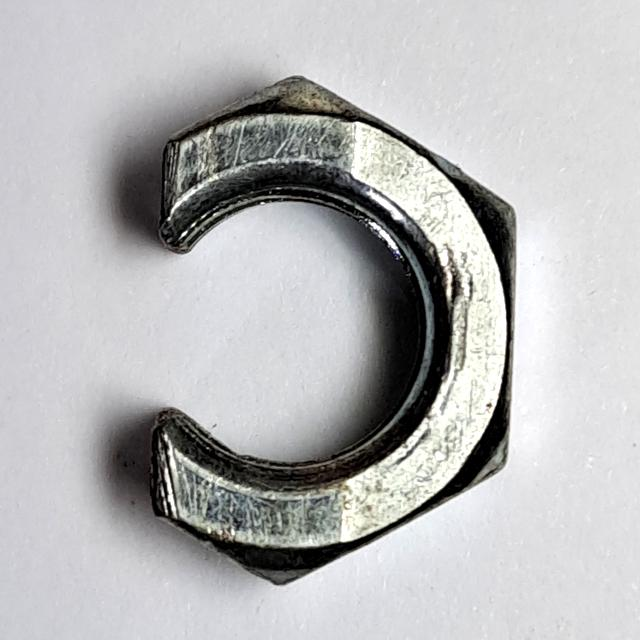Fracture: (137, 64, 527, 603)
